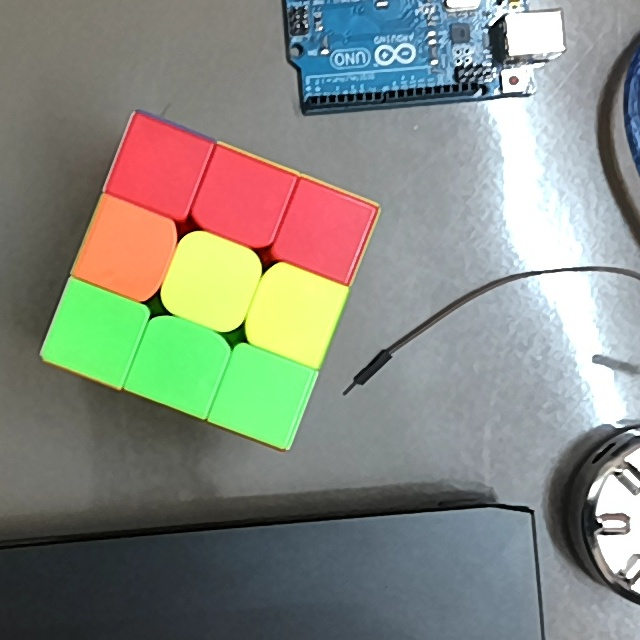tile: (181, 248, 246, 314), (95, 216, 161, 281), (65, 302, 129, 364), (146, 336, 211, 396), (231, 366, 295, 426), (129, 139, 191, 200), (212, 169, 274, 230), (294, 202, 355, 263), (265, 283, 325, 345)
